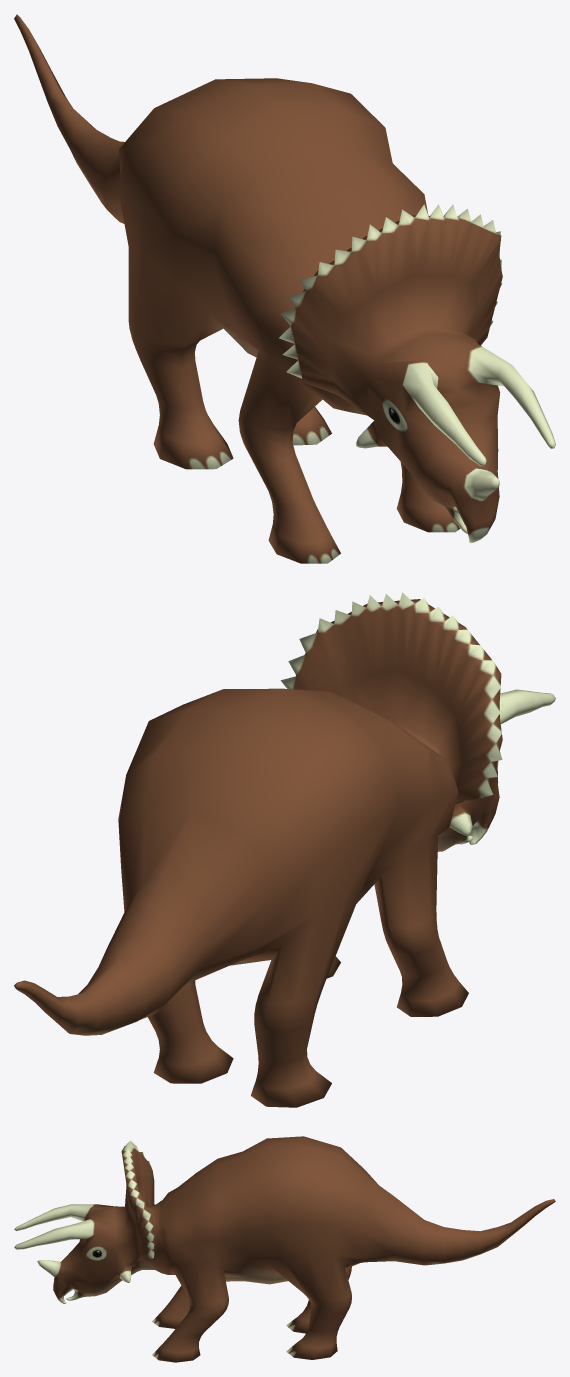
The model's file is triceratops.glb.
3 renders of one model, top to bottom at view 1: azimuth 30°, elevation 25°; view 2: azimuth 150°, elevation 25°; view 3: azimuth 270°, elevation 25°, orthographic. The views are drawn at different scales.
Parts seen in each view (by area): view 1: triceratops.001; view 2: triceratops.001; view 3: triceratops.001.
Boxes of the visible parts, x1,y1,x2,y2 form: triceratops.001: (14, 14, 555, 563); triceratops.001: (14, 592, 555, 1107); triceratops.001: (14, 1136, 555, 1362).
Size of the model in its own units: 2.08 by 3.18 by 8.1.
1 material, 1 textured.
